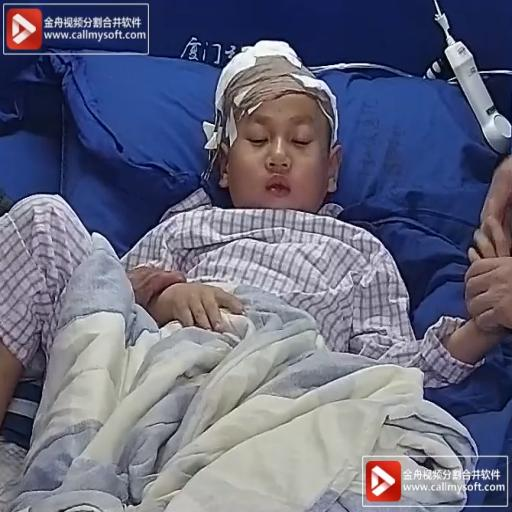Seizure: (210, 52, 352, 218)
